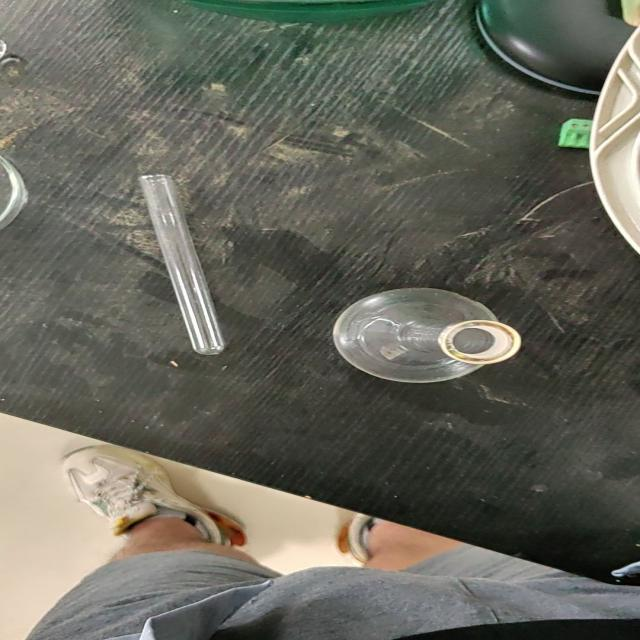bottles: (61, 444, 247, 547)
cardboard: (0, 0, 639, 589)
cups: (331, 285, 520, 384)
